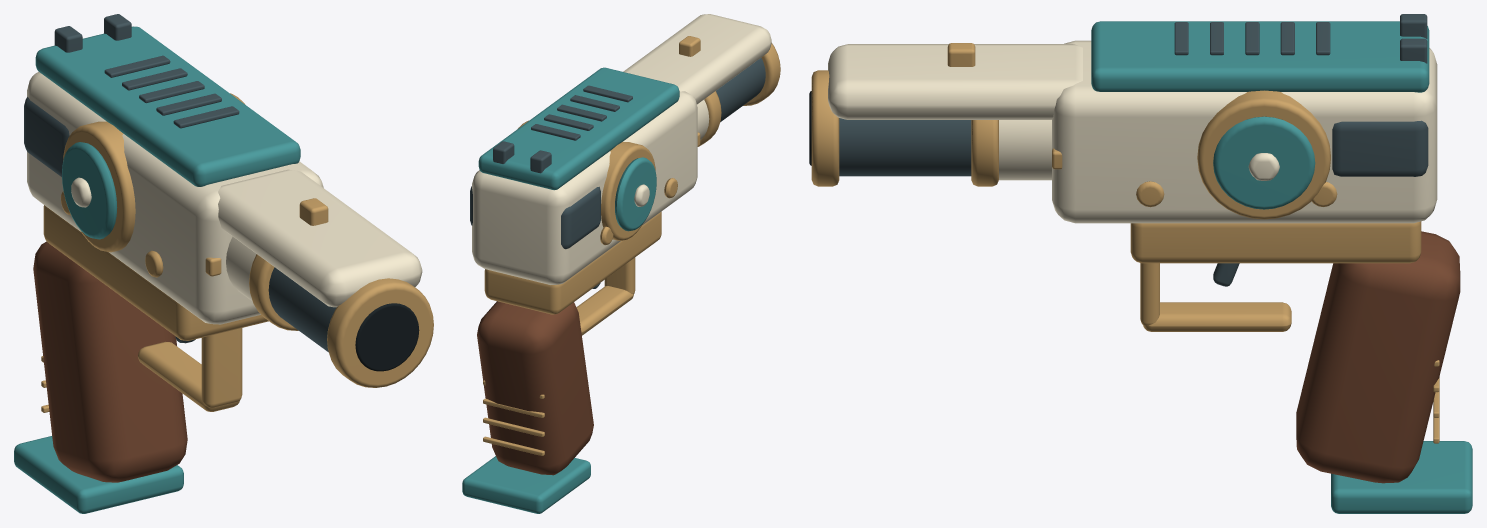
File: dead-letter.glb
3 renders of one model, left to right at view 1: azimuth 30°, elevation 25°; view 2: azimuth 150°, elevation 25°; view 3: azimuth 270°, elevation 25°, orthographic. The views are drawn at different scales.
Parts seen in each view (by area): view 1: Carved walnut grip, Enamel spine, Receiver, Split shroud, Lower frame, Barrel collar.002, Magazine, Chamber enamel, Arcane chamber, Muzzle, Guard front, Barrel (+13 smaller); view 2: Receiver, Carved walnut grip, Enamel spine, Split shroud, Lower frame, Magazine, Chamber enamel, Arcane chamber, Moving action, Barrel, Guard bottom, Barrel collar.002 (+13 smaller); view 3: Receiver, Carved walnut grip, Enamel spine, Split shroud, Lower frame, Barrel, Magazine, Chamber enamel.001, Arcane chamber, Moving action, Guard bottom, Ceramic barrel jacket (+3 smaller).
Boxes of the visible parts, bbox=[...] form: Carved walnut grip: bbox=[33, 241, 187, 482]; Enamel spine: bbox=[35, 26, 300, 186]; Receiver: bbox=[27, 71, 323, 324]; Split shroud: bbox=[218, 169, 422, 307]; Lower frame: bbox=[43, 205, 268, 340]; Barrel collar.002: bbox=[327, 278, 433, 387]; Magazine: bbox=[14, 436, 183, 513]; Chamber enamel: bbox=[62, 142, 117, 239]; Arcane chamber: bbox=[63, 93, 245, 252]; Muzzle: bbox=[355, 303, 419, 371]; Guard front: bbox=[201, 328, 242, 407]; Barrel: bbox=[268, 267, 336, 352]; Receiver: bbox=[472, 91, 697, 284]; Carved walnut grip: bbox=[477, 301, 593, 475]; Enamel spine: bbox=[478, 67, 679, 190]; Split shroud: bbox=[623, 14, 771, 104]; Lower frame: bbox=[484, 211, 661, 314]; Magazine: bbox=[462, 456, 590, 513]; Chamber enamel: bbox=[615, 157, 656, 231]; Arcane chamber: bbox=[518, 120, 655, 240]; Moving action: bbox=[470, 186, 600, 249]; Barrel: bbox=[716, 58, 765, 122]; Guard bottom: bbox=[576, 286, 633, 335]; Barrel collar.002: bbox=[743, 43, 780, 105]; Receiver: bbox=[1052, 40, 1437, 223]; Carved walnut grip: bbox=[1296, 231, 1460, 483]; Enamel spine: bbox=[1091, 21, 1429, 92]; Split shroud: bbox=[828, 44, 1082, 119]; Lower frame: bbox=[1130, 221, 1421, 263]; Barrel: bbox=[839, 118, 971, 176]; Magazine: bbox=[1331, 441, 1472, 513]; Chamber enamel.001: bbox=[1213, 116, 1315, 209]; Arcane chamber: bbox=[1197, 90, 1330, 219]; Moving action: bbox=[1332, 120, 1428, 176]; Guard bottom: bbox=[1143, 302, 1291, 331]; Ceramic barrel jacket: bbox=[999, 120, 1051, 180].
Bounding box in the file's own units: 0.271 × 0.6465 × 0.8435.
